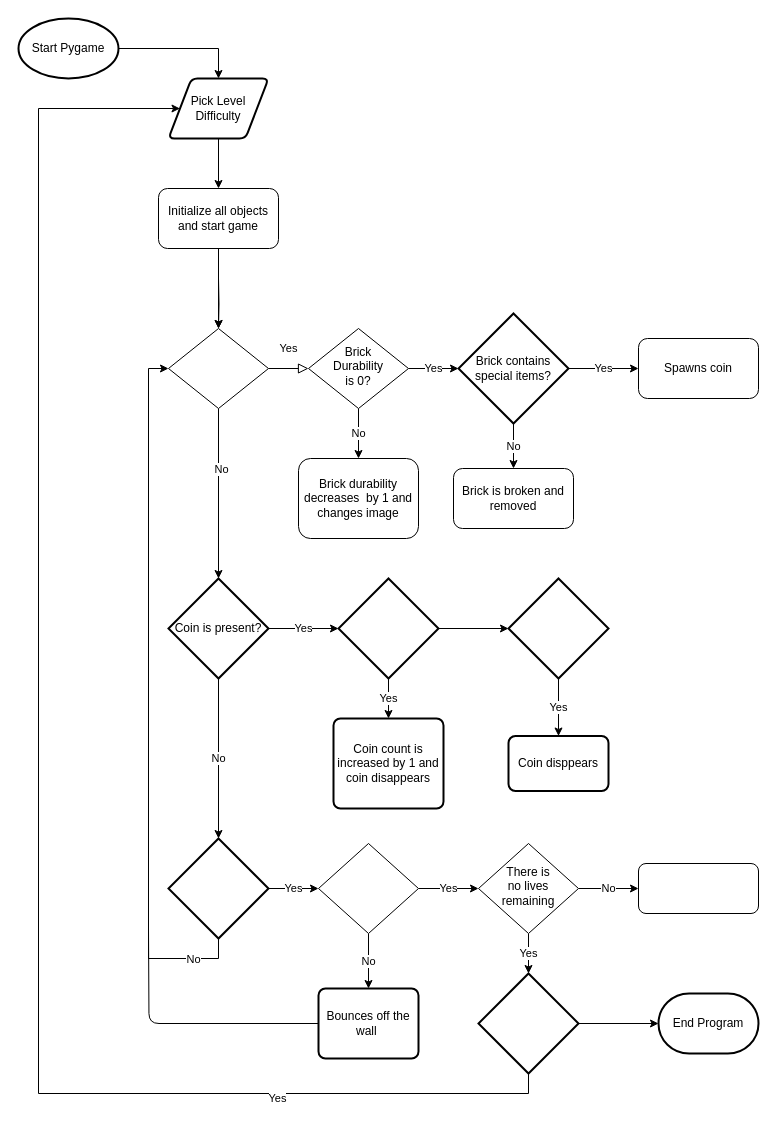
This 776x1121 diagram has some shape labels left out. Each missing label, with the centre of its shape:
"Ball goes off screen?" goes at [218,888].
"Ball hits brick?" goes at [218,368].
"Coin is clicked?" goes at [388,628].
"Coin timer is 0?" goes at [558,628].
"Going off-screen at the bottom?" goes at [368,888].
"Life decreases by one and the ball respawns" goes at [698,888].
"Replay?" goes at [528,1023].
